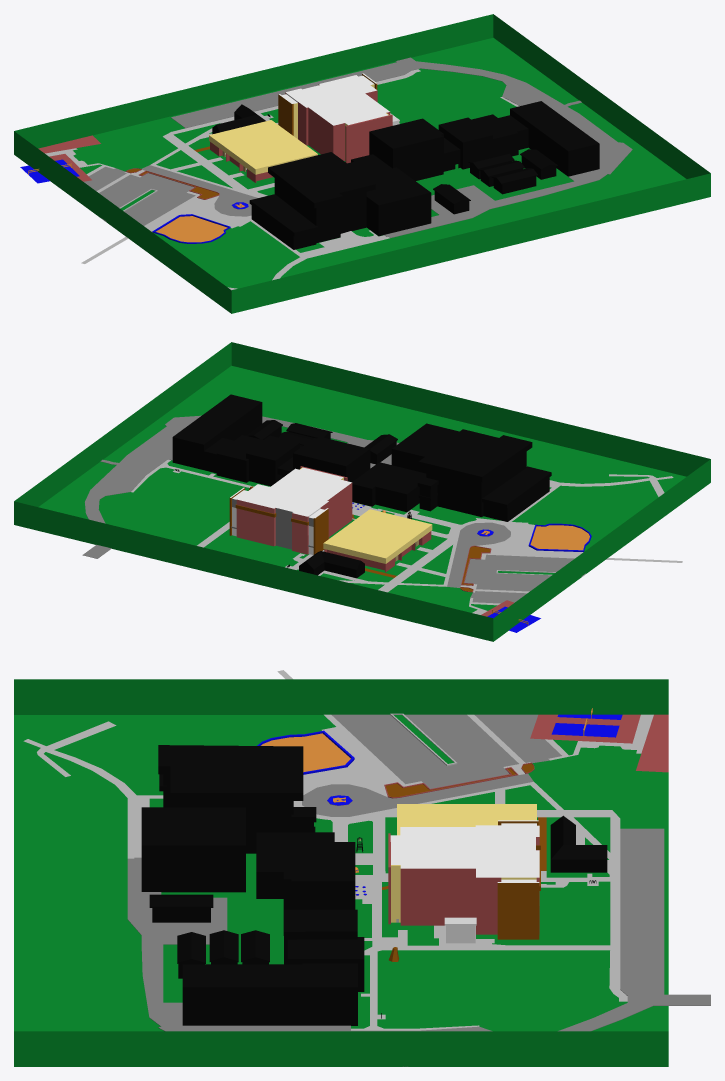
File: realmap.glb
3 renders of one model, top to bottom at view 1: azimuth 30°, elevation 25°; view 2: azimuth 150°, elevation 25°; view 3: azimuth 270°, elevation 25°, orthographic. The views are drawn at different scales.
Parts seen in each view (by area): view 1: Cube.003, Cube.005, Cube, Cube.004, Cube.002; view 2: Cube.003, Cube.005, Cube, Cube.004, Cube.002; view 3: Cube.003, Cube.005, Cube, Cube.002, Cube.004, Cube.001.
Part boxes in pixels (left/top/right/bottom): Cube.003: left=14, top=14, right=710, bottom=313; Cube.005: left=249, top=101, right=599, bottom=249; Cube: left=278, top=73, right=392, bottom=163; Cube.004: left=209, top=120, right=317, bottom=182; Cube.002: left=433, top=149, right=557, bottom=214; Cube.003: left=14, top=342, right=710, bottom=641; Cube.005: left=172, top=394, right=551, bottom=521; Cube: left=229, top=466, right=352, bottom=554; Cube.004: left=323, top=509, right=432, bottom=572; Cube.002: left=246, top=420, right=397, bottom=464; Cube.003: left=14, top=670, right=710, bottom=1066; Cube.005: left=141, top=745, right=364, bottom=1025; Cube: left=388, top=820, right=540, bottom=939; Cube.002: left=149, top=894, right=269, bottom=978; Cube.004: left=397, top=804, right=536, bottom=835; Cube.001: left=444, top=917, right=476, bottom=943.
Size of the model in its own units: 555 by 43.95 by 412.
3 materials, 2 textured.
